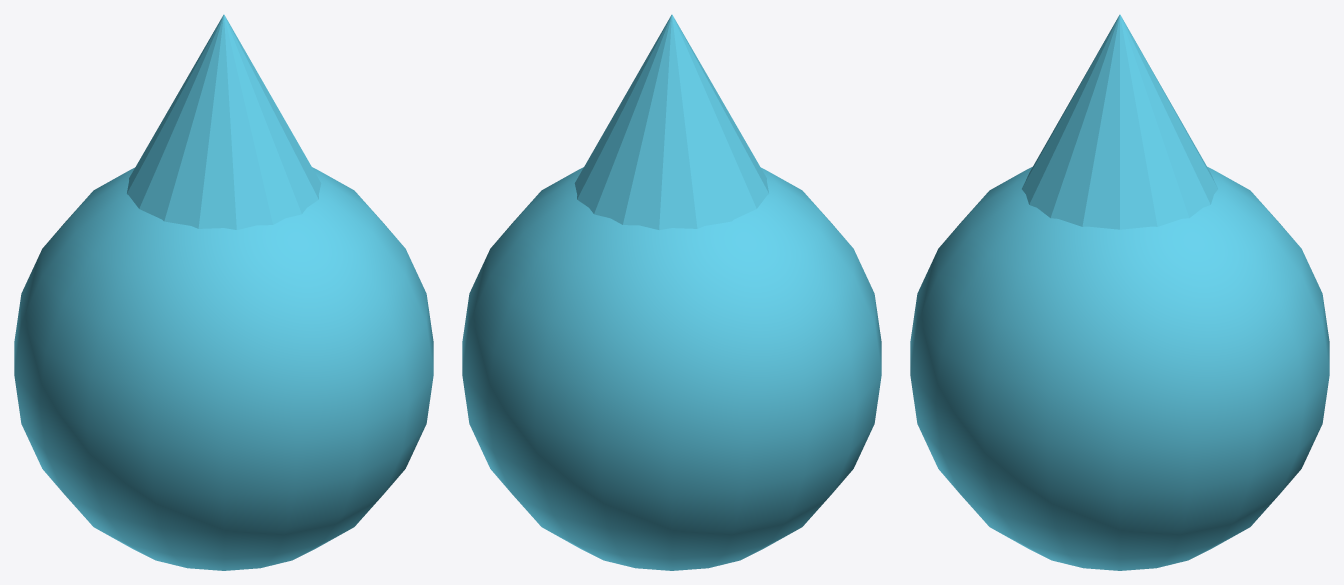
File: gota-agua.glb
The picture shows the model from 3 angles, left to right: view 1: azimuth 30°, elevation 25°; view 2: azimuth 150°, elevation 25°; view 3: azimuth 270°, elevation 25°; orthographic projection.
Bounding box in the file's own units: 0.84 × 1.17 × 0.8272.
